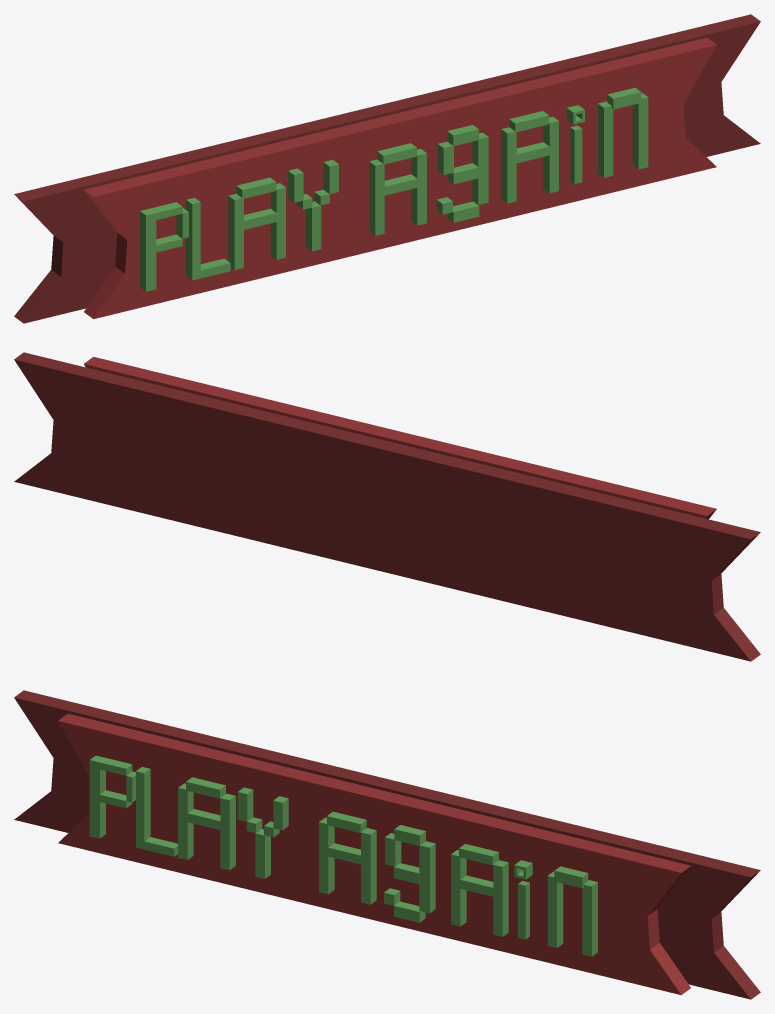
File: play again.fbx
3 views of the same model, one above another, from view 1: azimuth 30°, elevation 25°; view 2: azimuth 150°, elevation 25°; view 3: azimuth 330°, elevation 25° (orthographic).
Parts seen in each view (by area): view 1: polySurface41; view 2: polySurface41; view 3: polySurface41.
Part boxes in pixels (box(x1,y1,x2,y2)): polySurface41: box(14, 14, 760, 323); polySurface41: box(14, 352, 760, 661); polySurface41: box(14, 690, 760, 999).
Bounding box in the file's own units: 923 × 146 × 75.57.
